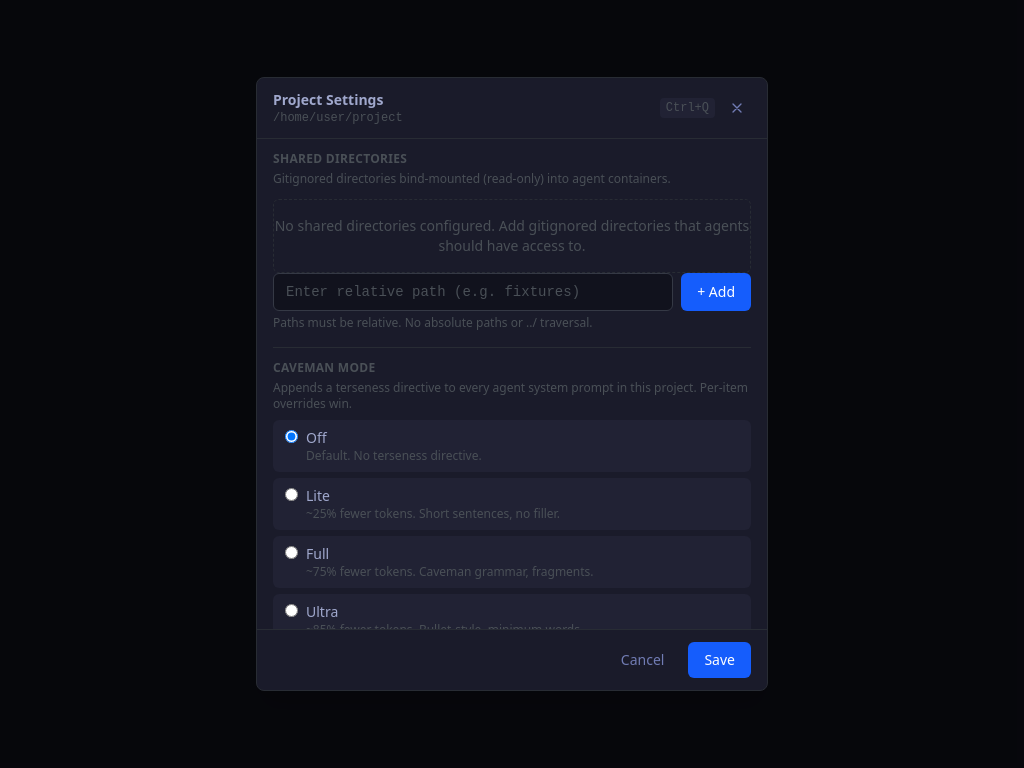
Test: ProjectConfigDialog › validates input — rejects empty path
Click the button with test id "add-dir-button" at (716, 292), box [681,273,751,311]
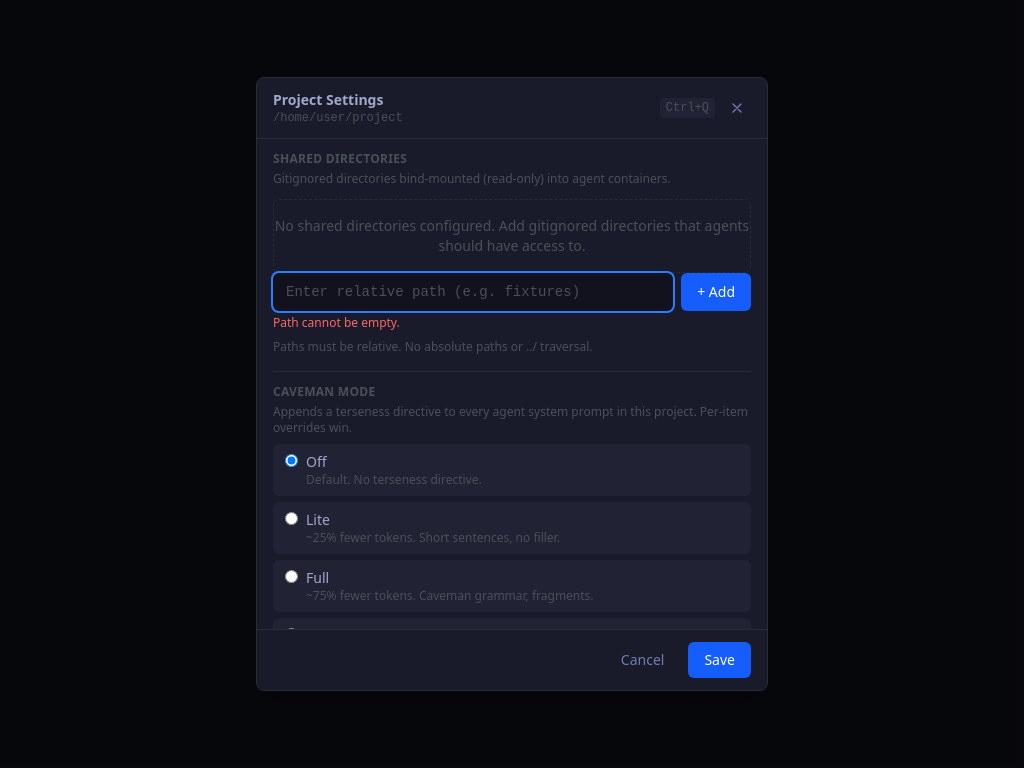
Check: the text with test id "validation-error" shows "Path cannot be empty", box [273,314,400,331]
